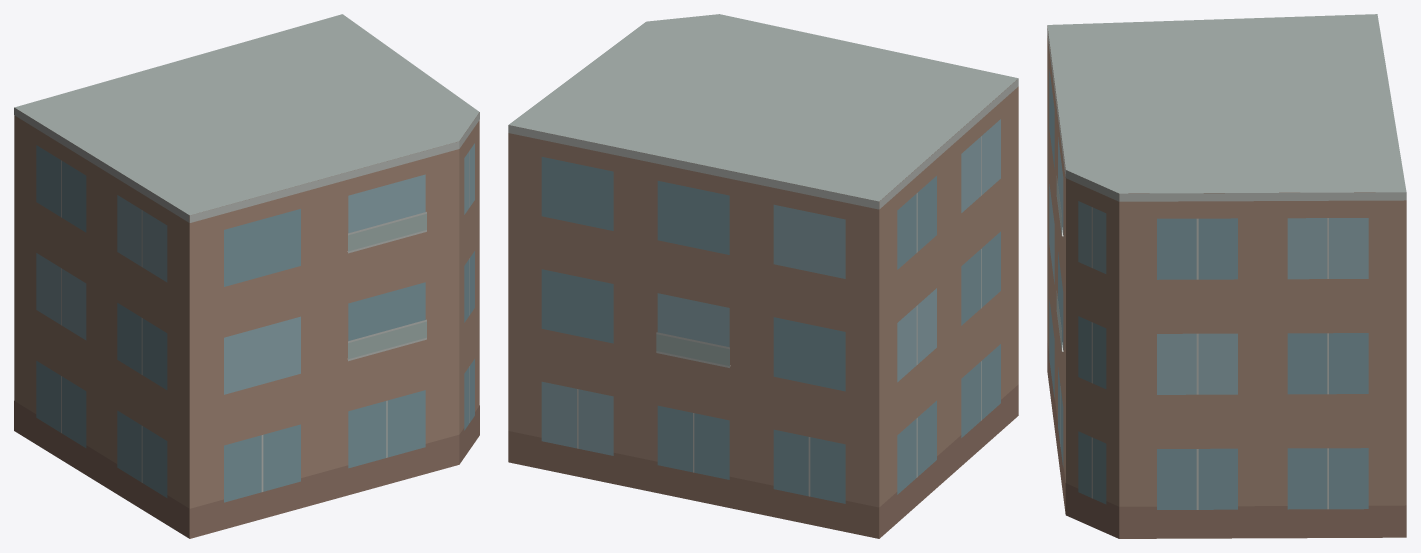
Rendered from survey-upis-32976136.glb.
3 renders of one model, left to right at view 1: azimuth 30°, elevation 25°; view 2: azimuth 150°, elevation 25°; view 3: azimuth 270°, elevation 25°, orthographic. The views are drawn at different scales.
Visible parts, largest first — view 1: survey-upis-32976136.tmp; view 2: survey-upis-32976136.tmp; view 3: survey-upis-32976136.tmp.
Boxes of the visible parts, x1,y1,x2,y2 form: survey-upis-32976136.tmp: (14, 14, 479, 538); survey-upis-32976136.tmp: (508, 14, 1018, 538); survey-upis-32976136.tmp: (1047, 14, 1406, 538).
Size of the model in its own units: 11.38 by 10.2 by 9.63.
